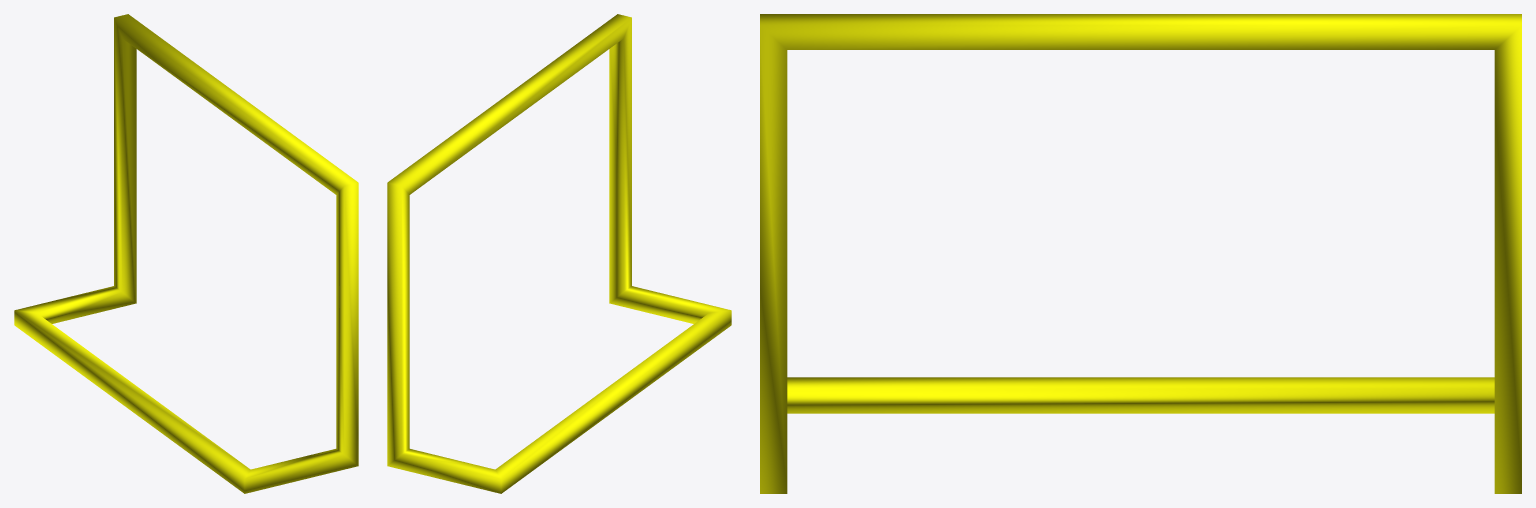
The model's file is Goalsally.002.dae.
3 views of the same model, side by side, from view 1: azimuth 30°, elevation 25°; view 2: azimuth 150°, elevation 25°; view 3: azimuth 270°, elevation 25° (orthographic). The views are drawn at different scales.
Visible parts, largest first — view 1: visual_0_field_1_2; view 2: visual_0_field_1_2; view 3: visual_0_field_1_2.
Part boxes in pixels (x1,y1,x2,y2): visual_0_field_1_2: (14, 14, 358, 493); visual_0_field_1_2: (387, 14, 731, 493); visual_0_field_1_2: (760, 14, 1521, 493).
Bounding box in the file's own units: 0.8 × 2.8 × 1.9.
